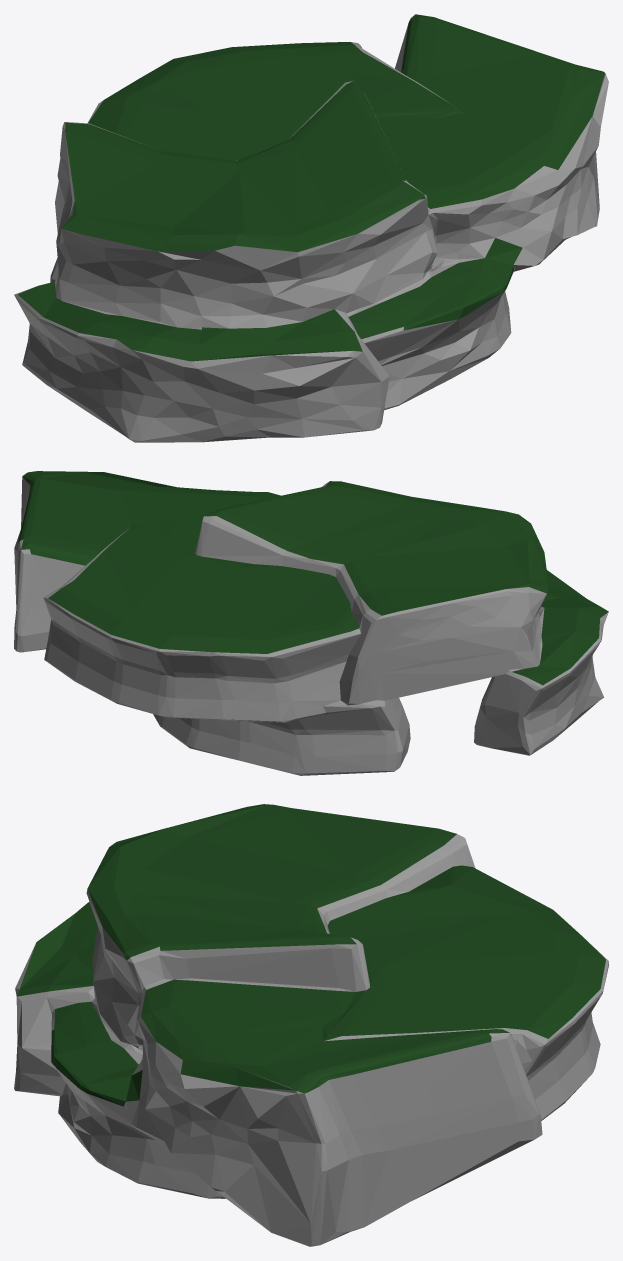
File: SM_plated_cliff_05.fbx
3 renders of one model, top to bottom at view 1: azimuth 30°, elevation 25°; view 2: azimuth 150°, elevation 25°; view 3: azimuth 270°, elevation 25°, orthographic. The views are drawn at different scales.
Visible parts, largest first — view 1: plated_cliff_05; view 2: plated_cliff_05; view 3: plated_cliff_05.
Boxes of the visible parts, left/top/right/bottom form: plated_cliff_05: left=14, top=14, right=608, bottom=442; plated_cliff_05: left=14, top=471, right=608, bottom=775; plated_cliff_05: left=14, top=804, right=608, bottom=1246.
Size of the model in its own units: 2730 by 933 by 2218.
